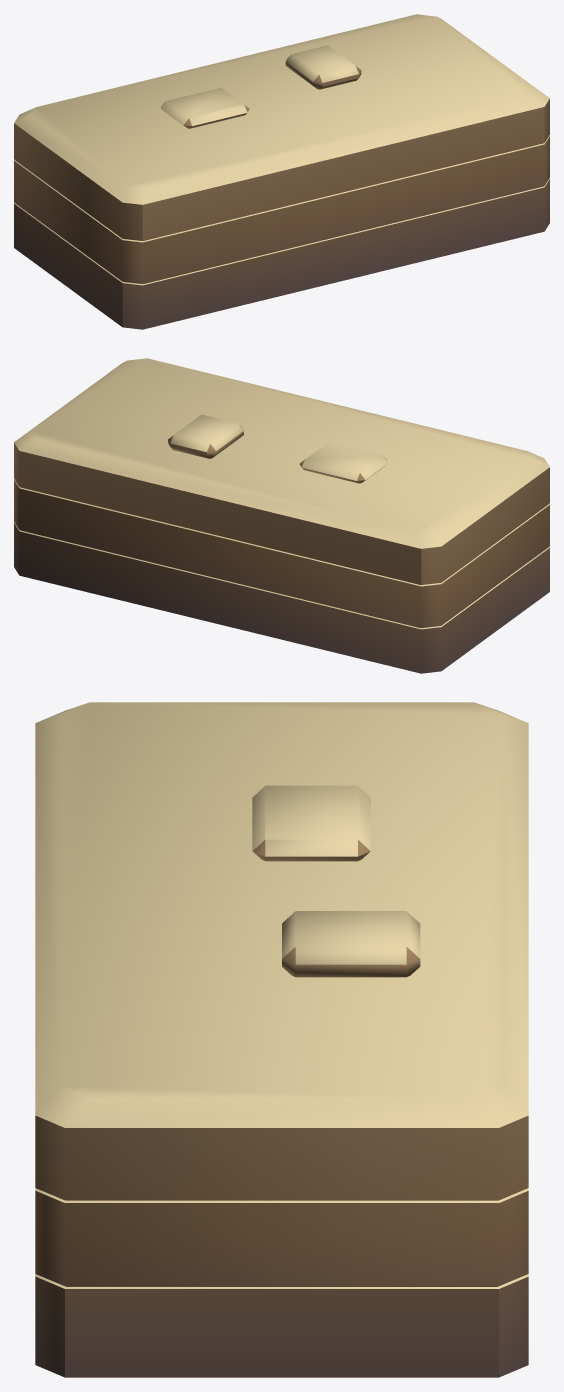
The model's file is canyon_boundary_low.glb.
3 views of the same model, one above another, from view 1: azimuth 30°, elevation 25°; view 2: azimuth 150°, elevation 25°; view 3: azimuth 270°, elevation 25° (orthographic). The views are drawn at different scales.
Visible parts, largest first — view 1: canyon_boundary_low; view 2: canyon_boundary_low; view 3: canyon_boundary_low.
Boxes of the visible parts, x1=… form: canyon_boundary_low: x1=14, y1=14, x2=549, y2=329; canyon_boundary_low: x1=14, y1=358, x2=549, y2=673; canyon_boundary_low: x1=35, y1=702, x2=528, y2=1377.
Size of the model in its own units: 4 by 1.33 by 2.
1 material, 1 textured.
